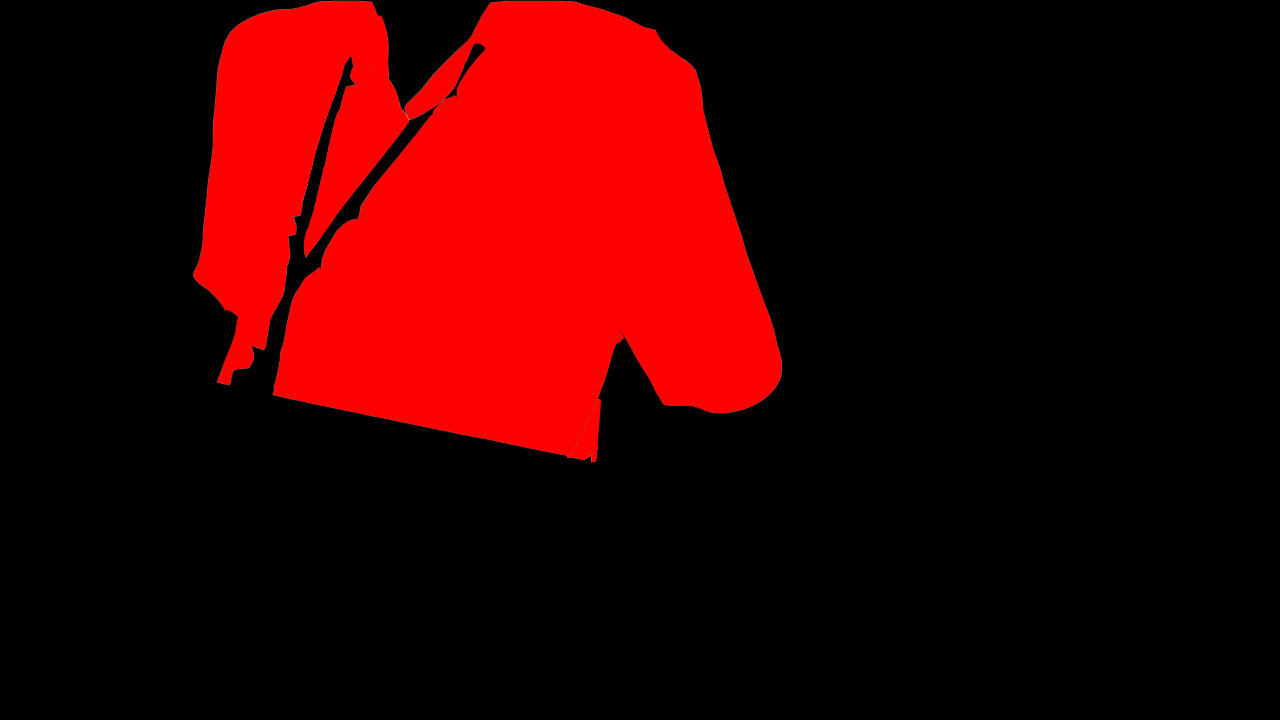uniforme_ifmt: (195, 4, 788, 477)
